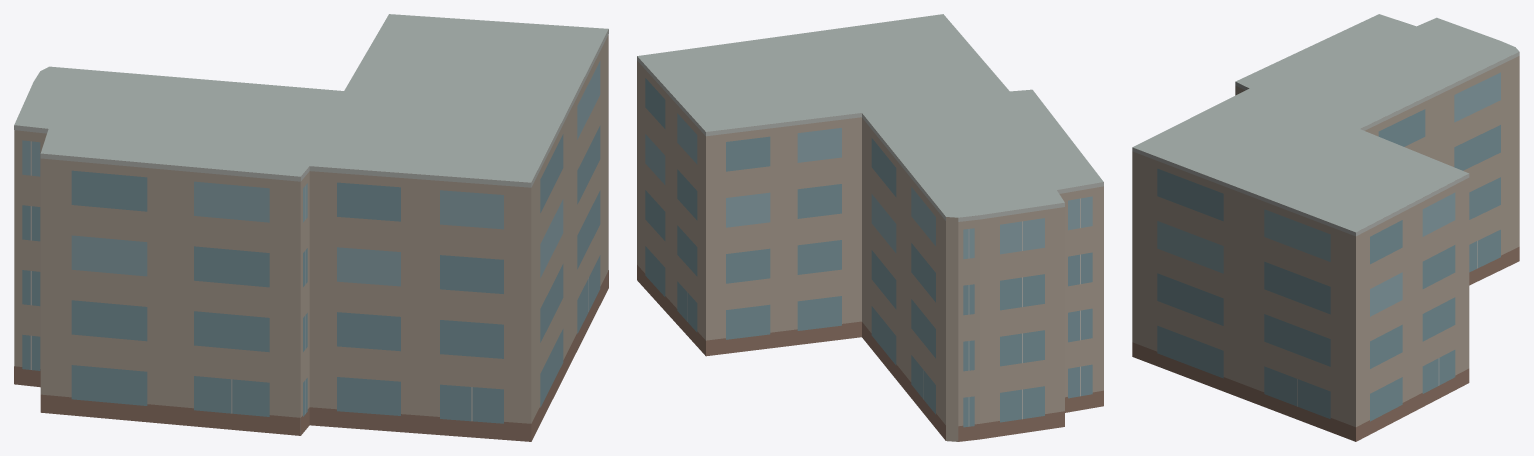
Rendered from survey-upis-32523456.glb.
3 views of the same model, side by side, from view 1: azimuth 30°, elevation 25°; view 2: azimuth 150°, elevation 25°; view 3: azimuth 270°, elevation 25° (orthographic). The views are drawn at different scales.
Parts seen in each view (by area): view 1: survey-upis-32523456.tmp; view 2: survey-upis-32523456.tmp; view 3: survey-upis-32523456.tmp.
Boxes of the visible parts, x1=… form: survey-upis-32523456.tmp: x1=14, y1=14, x2=608, y2=441; survey-upis-32523456.tmp: x1=637, y1=14, x2=1103, y2=441; survey-upis-32523456.tmp: x1=1132, y1=14, x2=1519, y2=441.
Size of the model in its own units: 28.41 by 12.7 by 21.29.
